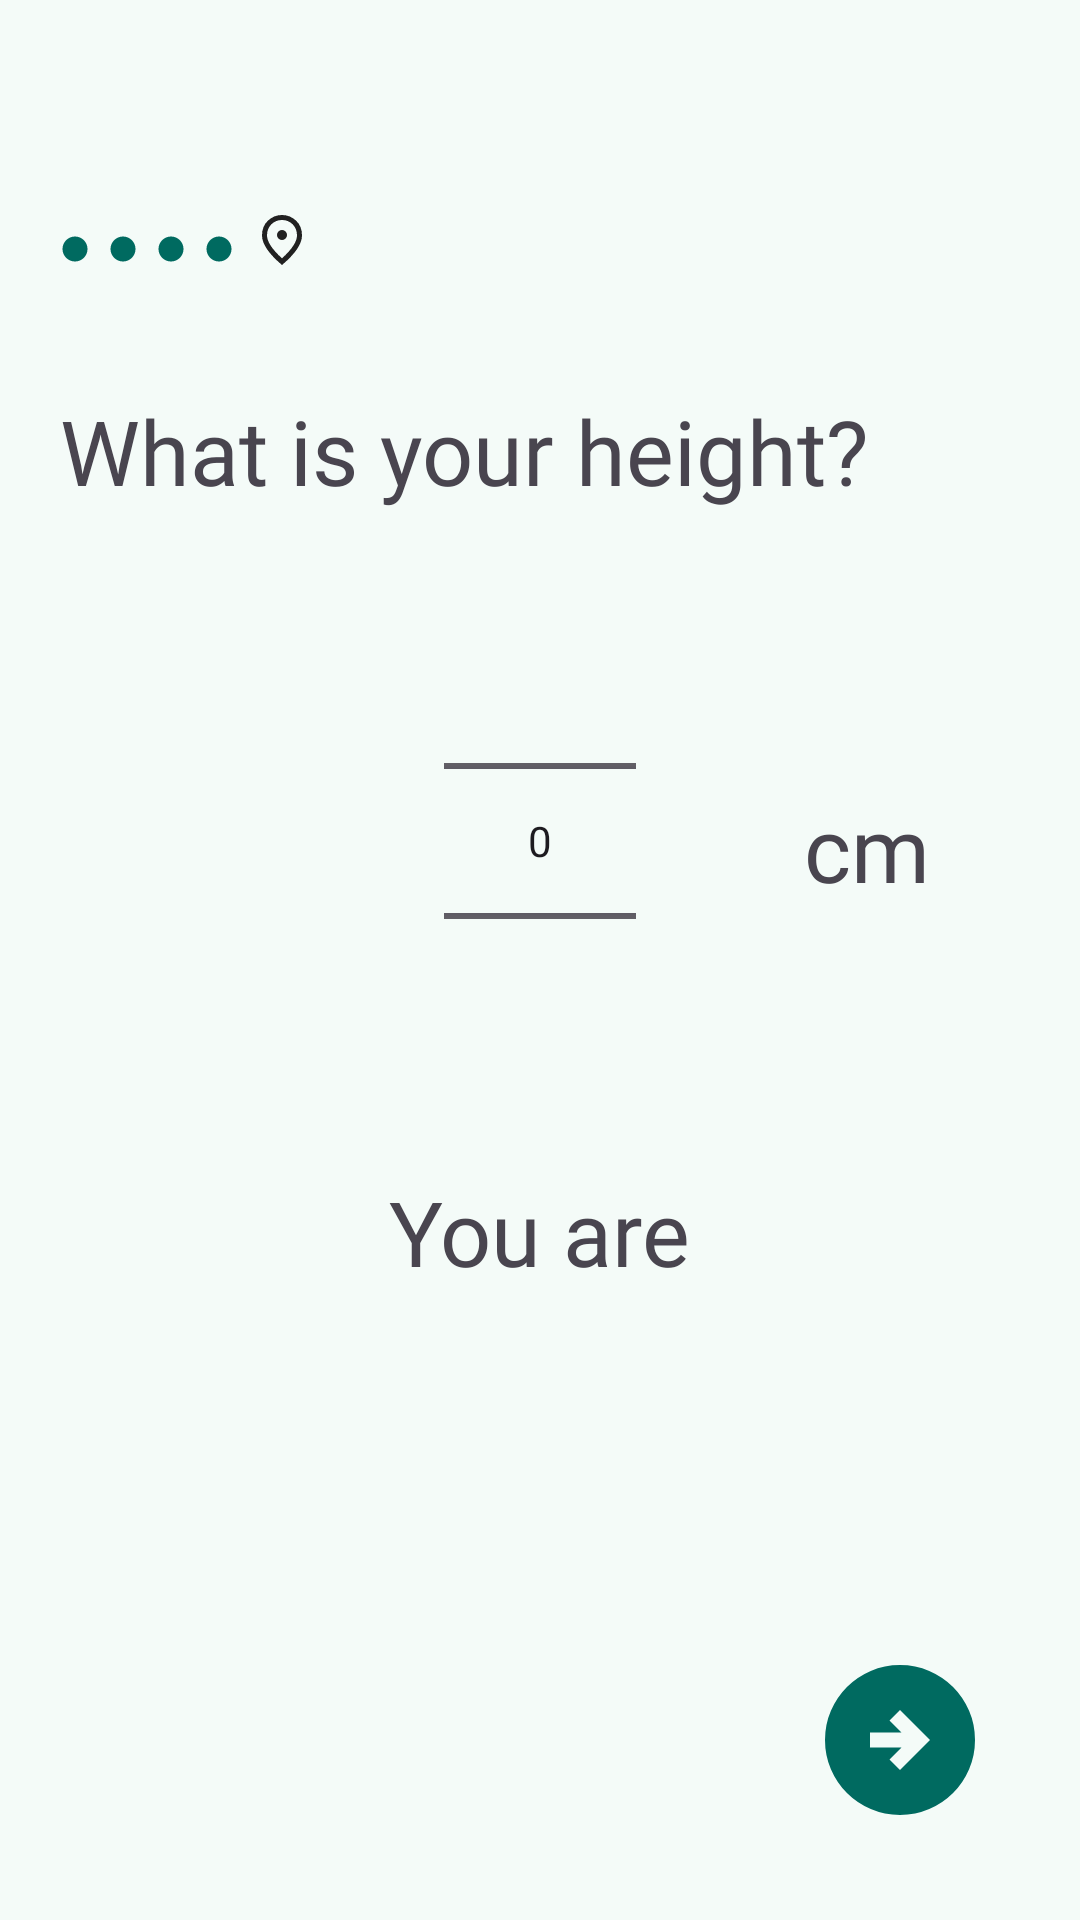

Where icons sit on this 1080*1920 app screen, as bbox(x1, y1, x2, y2):
location: bbox(262, 215, 302, 265)
next: bbox(825, 1665, 975, 1815)
